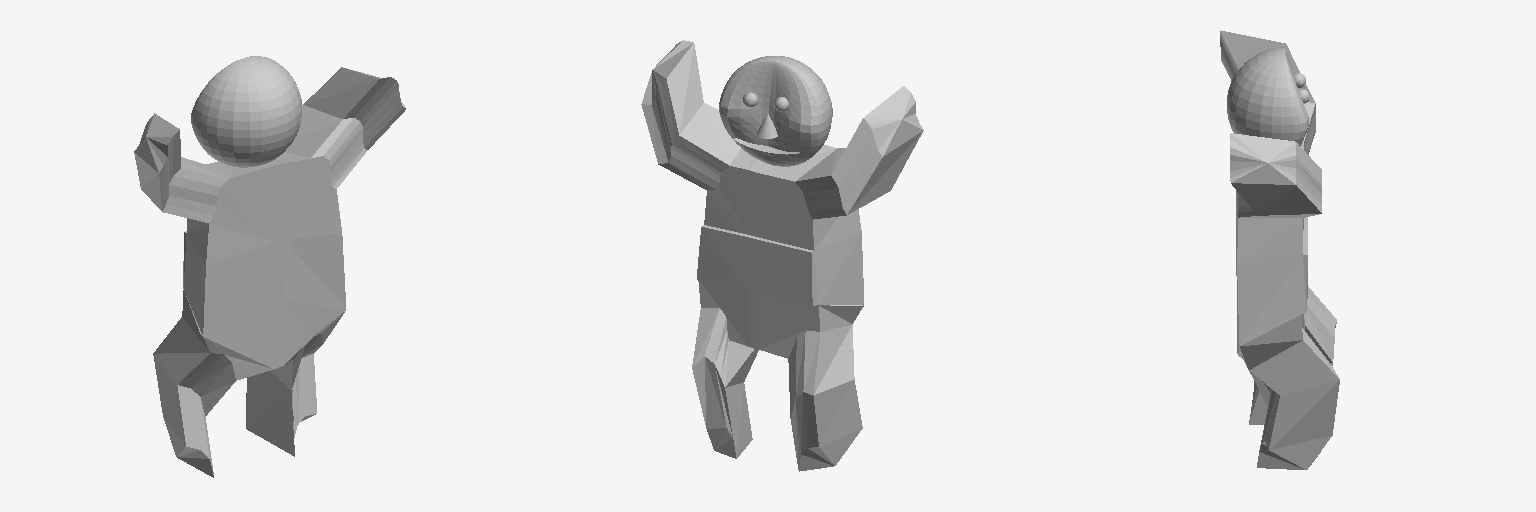
File: manjump_000004.obj
3 renders of one model, left to right at view 1: azimuth 30°, elevation 25°; view 2: azimuth 150°, elevation 25°; view 3: azimuth 270°, elevation 25°, orthographic.
Parts seen in each view (by area): view 1: Cube; view 2: Cube; view 3: Cube.
Part boxes in pixels (left/top/right/bottom): Cube: left=134, top=56, right=406, bottom=477; Cube: left=641, top=40, right=923, bottom=471; Cube: left=1220, top=30, right=1339, bottom=469.
Bounding box in the file's own units: 83.35 × 125 × 34.38.